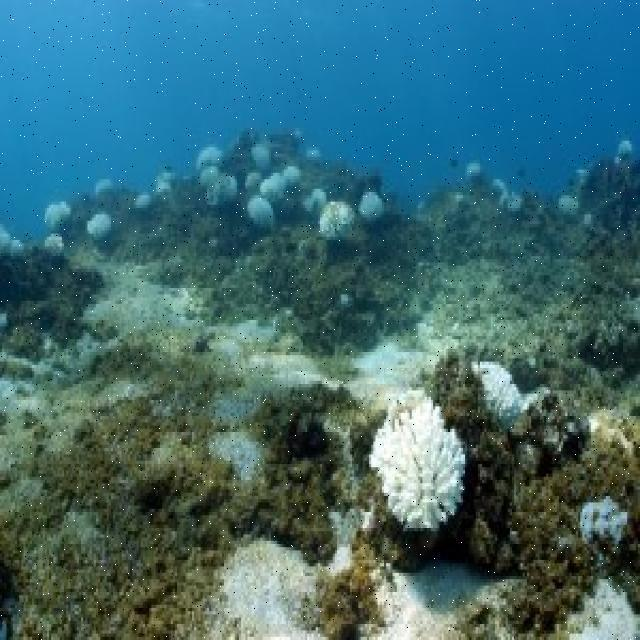Bleached: (370, 387, 467, 532), (473, 358, 553, 426), (582, 495, 628, 546), (197, 149, 237, 207), (318, 198, 354, 239), (494, 178, 524, 213), (250, 197, 277, 232), (1, 227, 27, 262), (46, 202, 74, 230), (90, 214, 113, 242), (362, 192, 383, 222), (305, 188, 329, 214), (252, 144, 273, 170), (46, 231, 65, 259), (156, 169, 176, 195), (561, 196, 581, 218), (247, 171, 264, 194), (285, 165, 301, 189), (467, 161, 484, 180), (620, 138, 634, 160), (136, 194, 152, 213), (97, 179, 114, 196), (577, 170, 592, 189), (308, 146, 323, 165), (296, 127, 304, 143), (457, 193, 466, 203)
Healthy: (1, 346, 259, 640), (208, 239, 417, 335), (470, 432, 578, 577), (266, 391, 336, 564), (584, 195, 640, 393), (1, 264, 103, 361), (502, 579, 583, 639), (116, 215, 208, 265), (319, 570, 378, 640)
